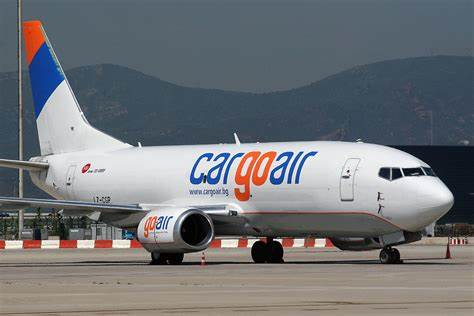Aeronef_commercial: (1, 16, 459, 267)
